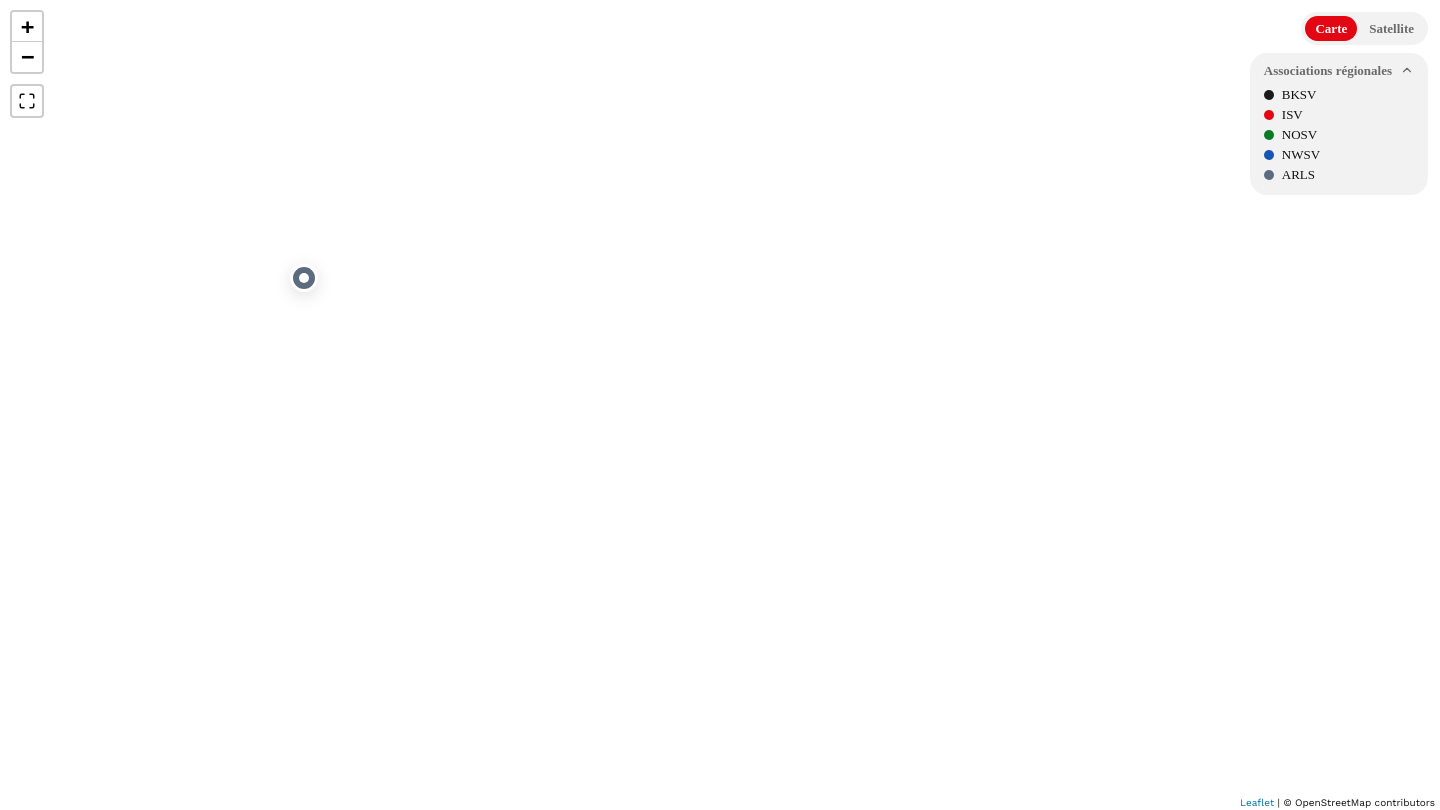
Test case: MapView venue pins › rebuilds the popups in the new language when the language changes
This screenshot has width=1440, height=810.
Click the button with class "leaflet-marker-icon" at x=304, y=278, box [290,264,318,292]
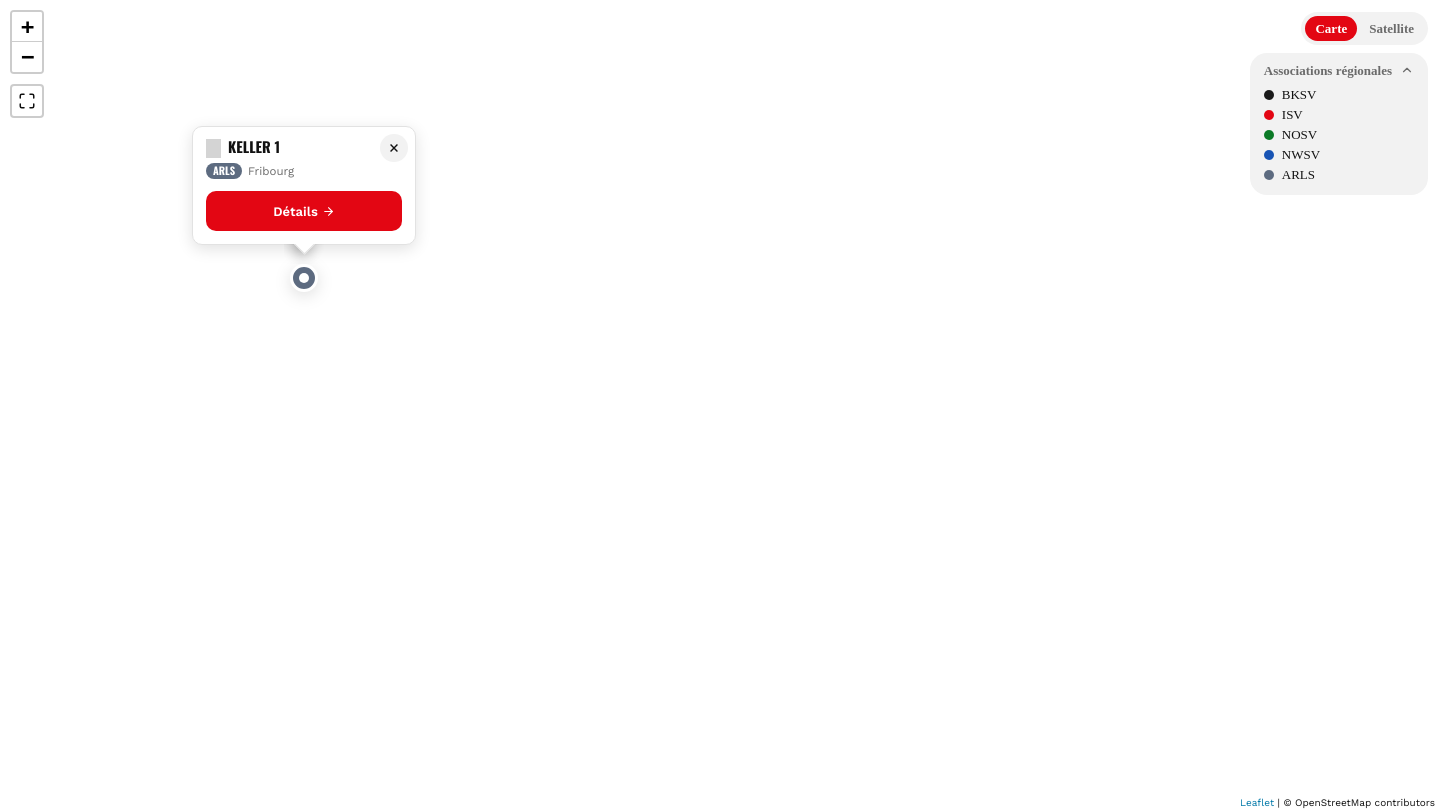
Result: the element with class "leaflet-popup" shows "ARLS" at [213,162,235,178]
Result: the element with class "leaflet-popup" shows "Fribourg" at [248,164,294,178]
